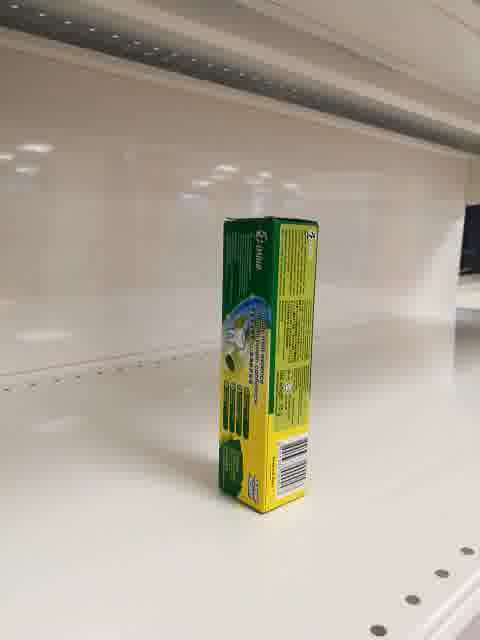toothpaste: (219, 215, 319, 516)
